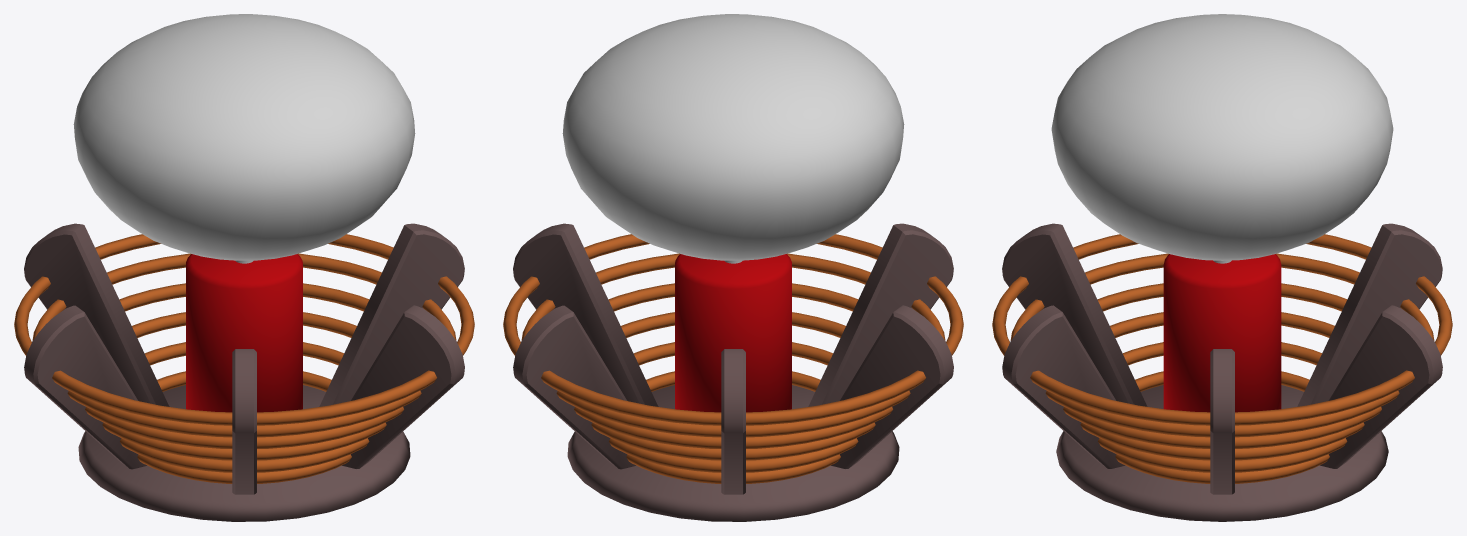
The model's file is TeslaCoil.fbx.
3 views of the same model, side by side, from view 1: azimuth 30°, elevation 25°; view 2: azimuth 150°, elevation 25°; view 3: azimuth 270°, elevation 25° (orthographic).
Visible parts, largest first — view 1: TeslaCoil; view 2: TeslaCoil; view 3: TeslaCoil.
Boxes of the visible parts, bbox=[...] form: TeslaCoil: bbox=[14, 14, 474, 521]; TeslaCoil: bbox=[503, 14, 963, 521]; TeslaCoil: bbox=[992, 14, 1452, 521].
Bounding box in the file's own units: 111 × 102 × 103.
